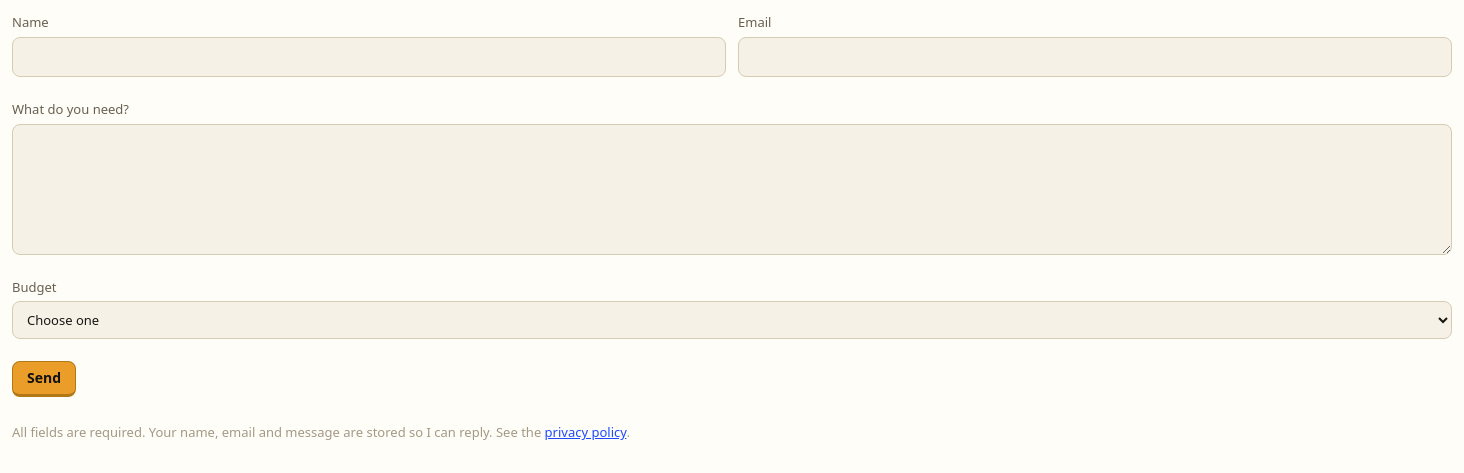
Test: ContactForm › keeps what was typed after an error and offers Try again
In the field labelled "Name": [369, 57] box [12,37,726,77], type "Ann"
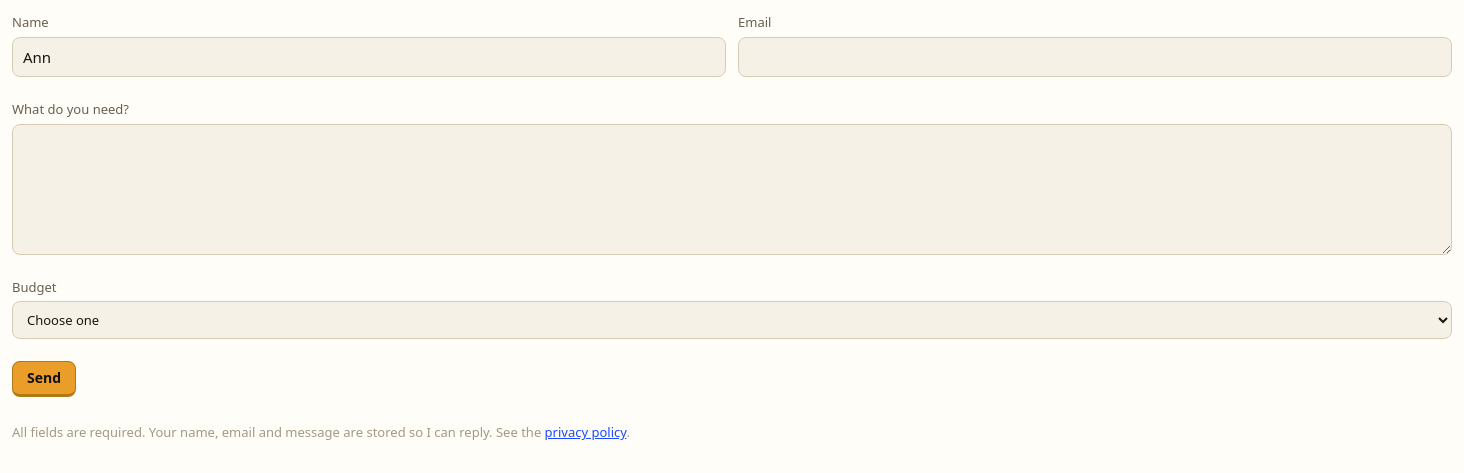
Submit the form "Send"
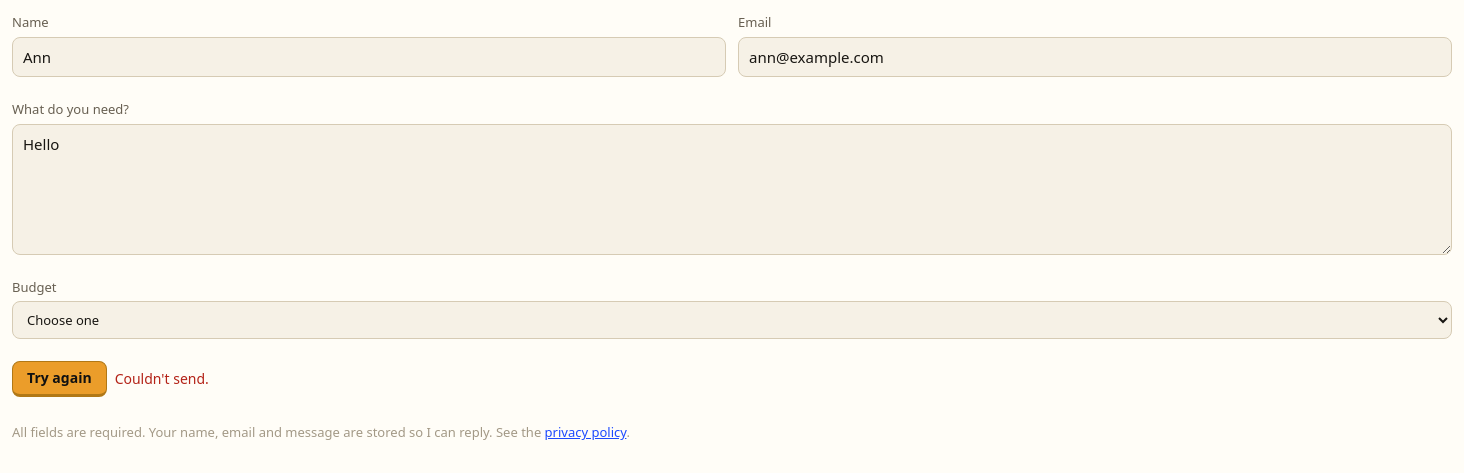
Expected: the message shows "Couldn't send", [115,369,209,388]
Expected: the text box labelled "What do you need?" holds "Hello", [12,124,1452,255]
Expected: the button "Try again" is shown, [12,361,107,397]
